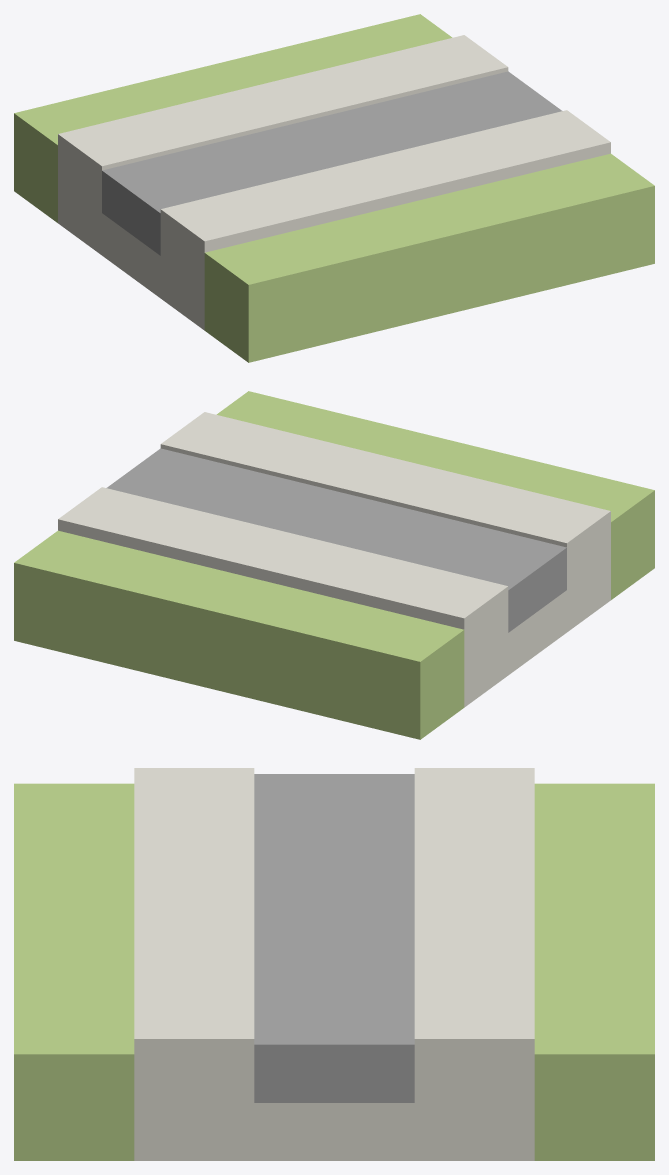
The model's file is roadTile_160.gltf.
3 renders of one model, top to bottom at view 1: azimuth 30°, elevation 25°; view 2: azimuth 150°, elevation 25°; view 3: azimuth 270°, elevation 25°, orthographic. The views are drawn at different scales.
Parts seen in each view (by area): view 1: roadTile_160; view 2: roadTile_160; view 3: roadTile_160.
Boxes of the visible parts, x1,y1,x2,y2 form: roadTile_160: (14, 14, 654, 362); roadTile_160: (14, 391, 654, 739); roadTile_160: (14, 768, 654, 1160).
Bounding box in the file's own units: 3 × 0.63 × 3.
